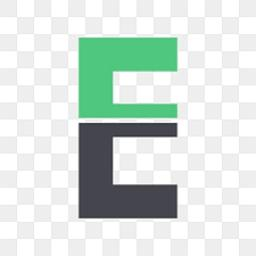e: (72, 34, 182, 222)
